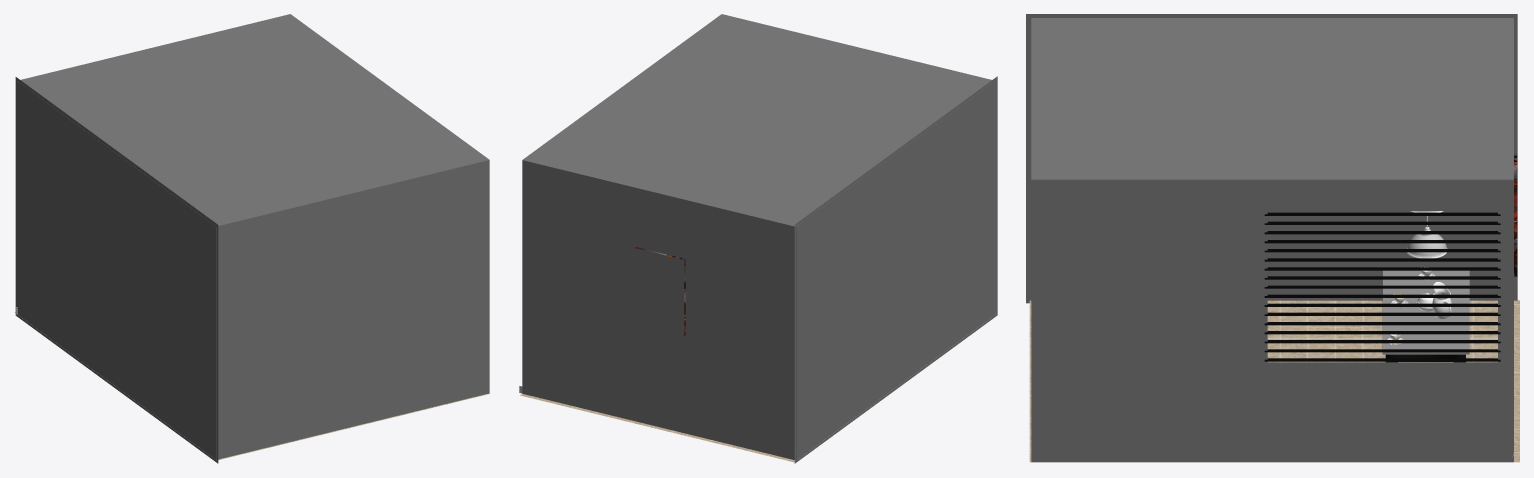
Rendered from breakfast_room.glb.
The picture shows the model from 3 angles, left to right: view 1: azimuth 30°, elevation 25°; view 2: azimuth 150°, elevation 25°; view 3: azimuth 270°, elevation 25°; orthographic projection. The views are drawn at different scales.
Visible parts, largest first — view 1: 39_Walls, 52_Walls; view 2: 39_Walls, 52_Walls, 38_FloorTiles; view 3: 39_Walls, 52_Walls, 06_None, 38_FloorTiles, 37_WhiteMarble, 00_FrostedGlass, 08_BlackPaint.
Part boxes in pixels (x1,y1,x2,y2): 39_Walls: (21,14,489,459); 52_Walls: (15,77,218,463); 39_Walls: (522,14,991,460); 52_Walls: (794,76,997,463); 38_FloorTiles: (520,317,991,462); 39_Walls: (1031,18,1513,462); 52_Walls: (1026,14,1517,303); 06_None: (1264,212,1500,361); 38_FloorTiles: (1029,300,1519,462); 37_WhiteMarble: (1382,270,1469,354); 00_FrostedGlass: (1407,234,1446,257); 08_BlackPaint: (1385,354,1465,362).
Bounding box in the file's own units: 3.83 × 3.15 × 4.87.
Materials: 13 (3 with a texture image).
